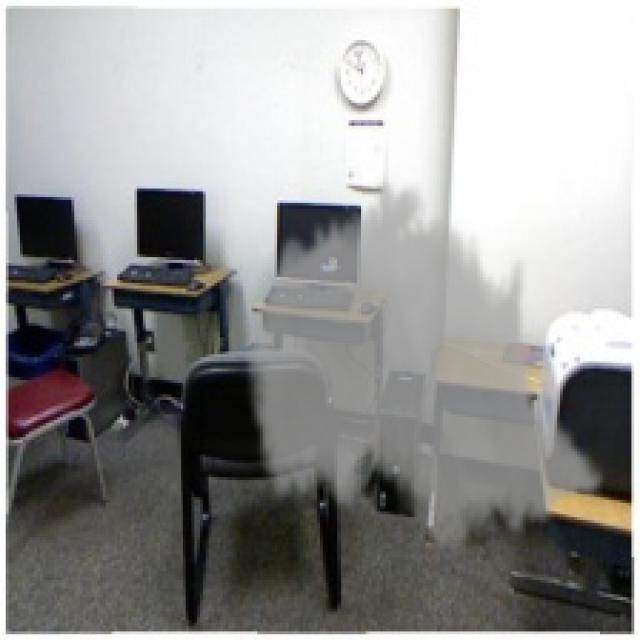smoke: (240, 171, 606, 563)
